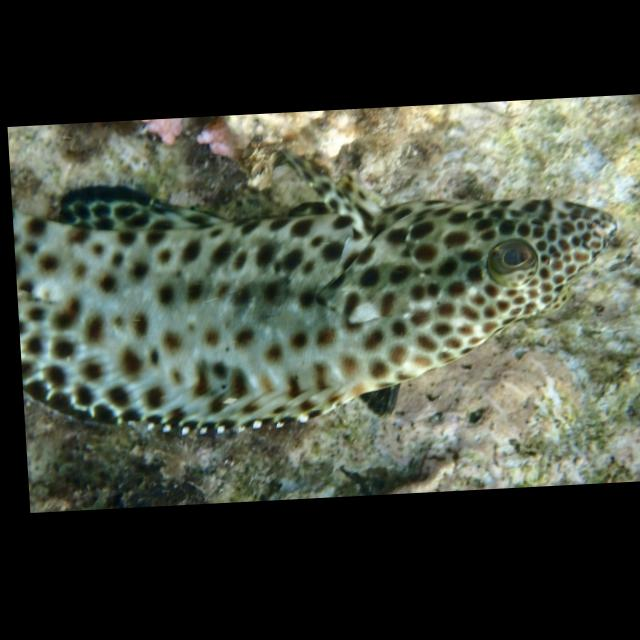Groupers: (10, 132, 630, 443)
